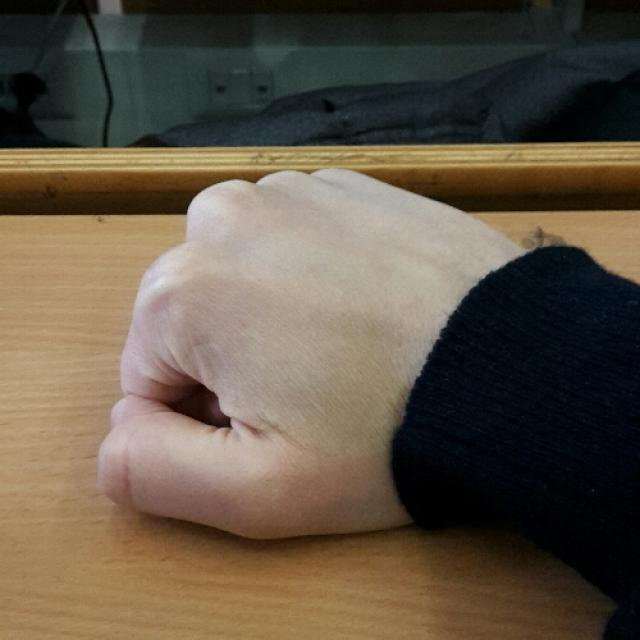rock: (102, 168, 410, 536)
